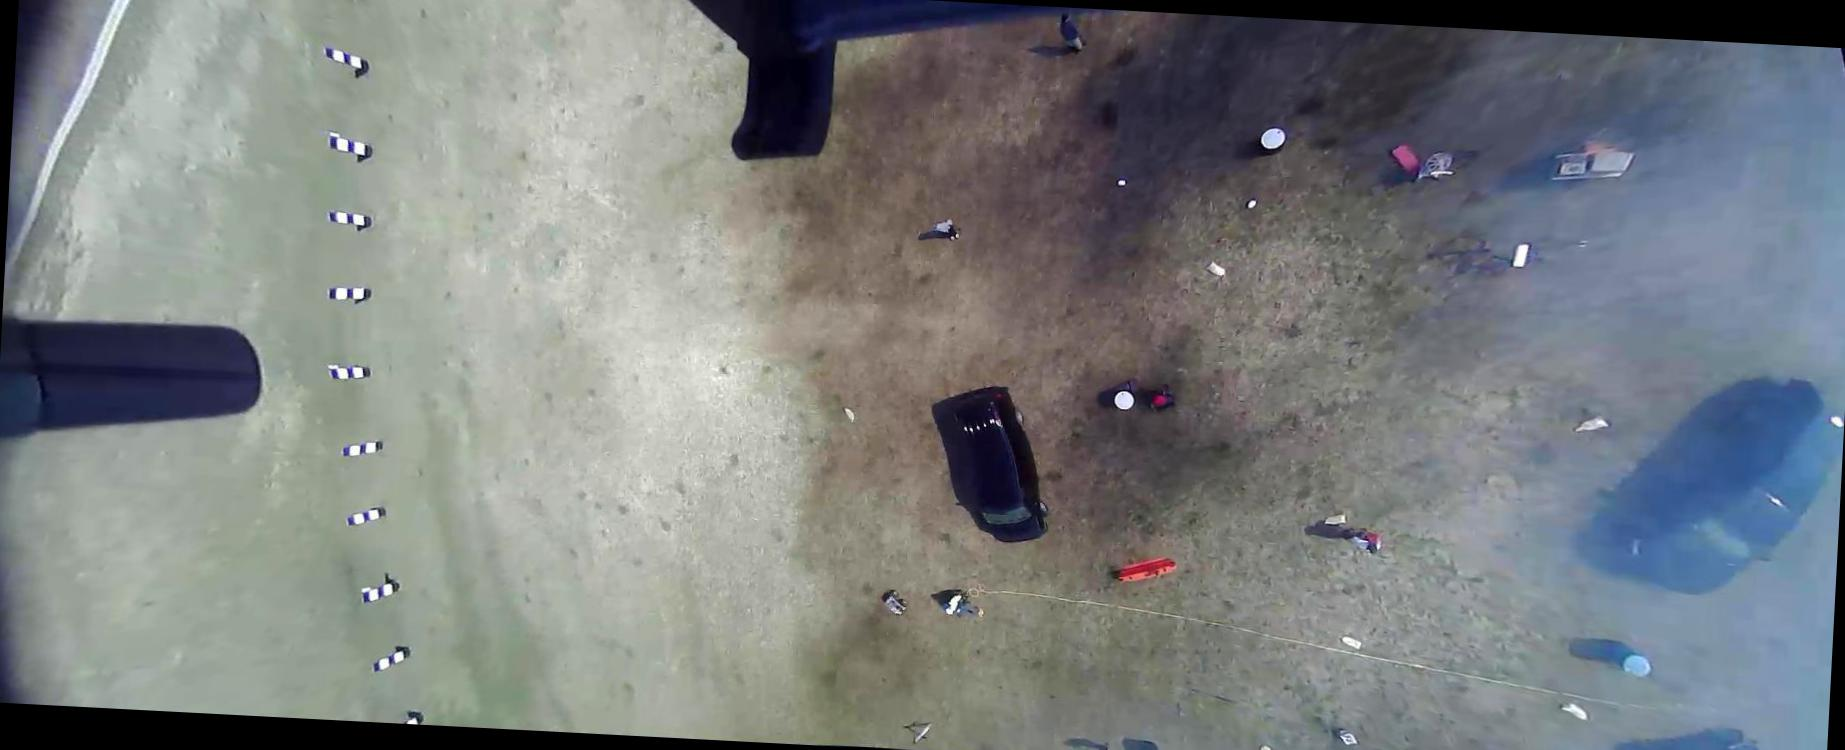vehicle: (1622, 369, 1844, 603), (944, 385, 1056, 546), (1609, 720, 1766, 749)
